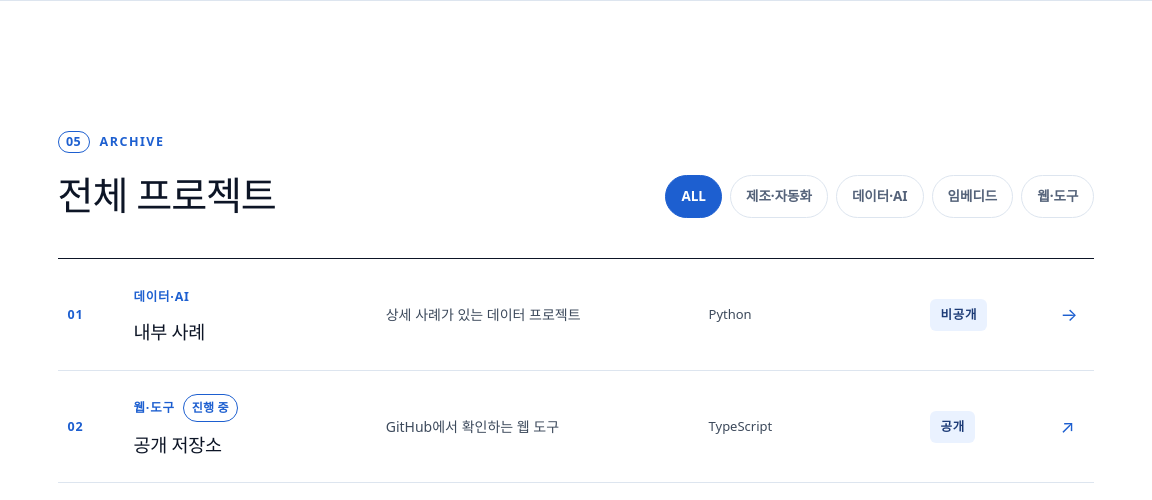
Scenario: Archive › filters catalog items and opens GitHub-only projects in a new tab
Click the button "웹·도구": (1058, 196) [1021,174,1094,218]
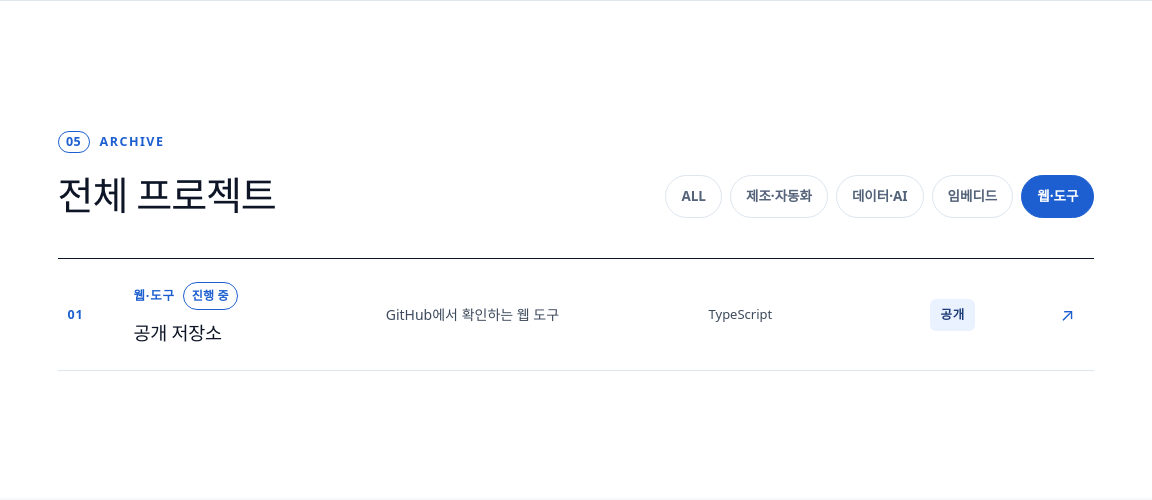
Expected: the link "01 웹·도구 진행 중 공개 저장소 GitHub에서 확인하는 웹 도구 TypeScript 공개 ↗" is shown, [58,259,1094,371]
Now the link "내부 사례" is gone
